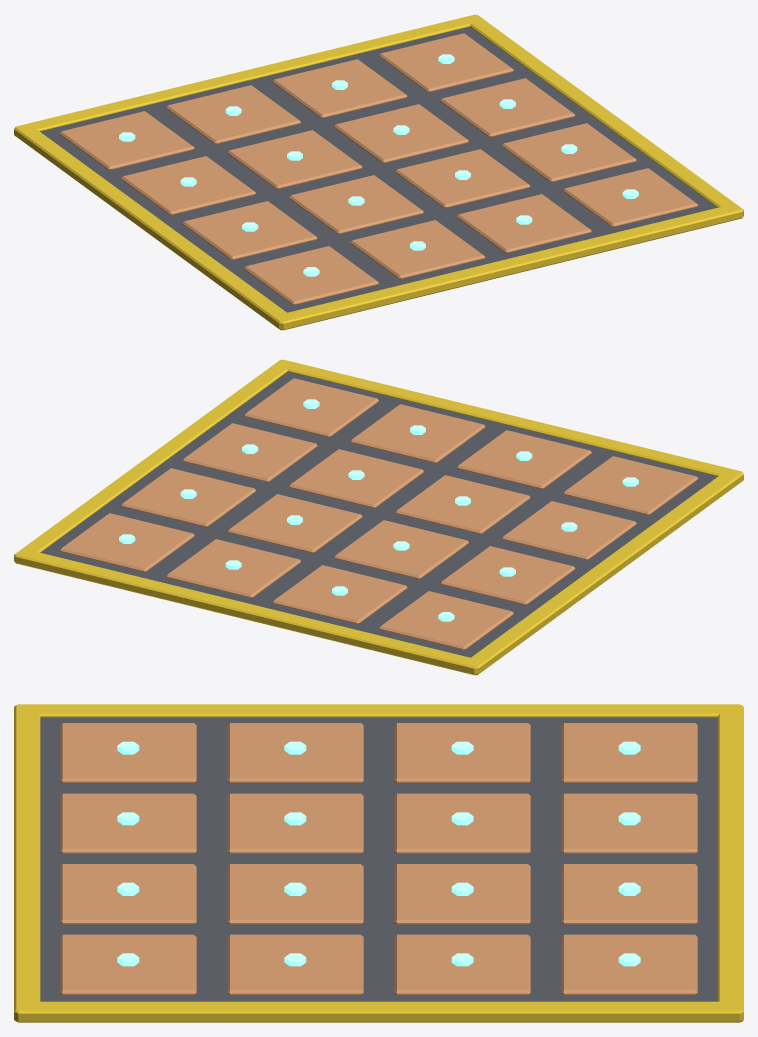
File: trap_shock.glb
3 views of the same model, one above another, from view 1: azimuth 30°, elevation 25°; view 2: azimuth 150°, elevation 25°; view 3: azimuth 270°, elevation 25° (orthographic). The views are drawn at different scales.
Parts seen in each view (by area): view 1: trap_shock; view 2: trap_shock; view 3: trap_shock.
Part boxes in pixels (x1,y1,x2,y2): trap_shock: (14, 14, 743, 330); trap_shock: (14, 359, 743, 675); trap_shock: (14, 704, 743, 1022).
Bounding box in the file's own units: 3.32 × 0.095 × 3.32.
